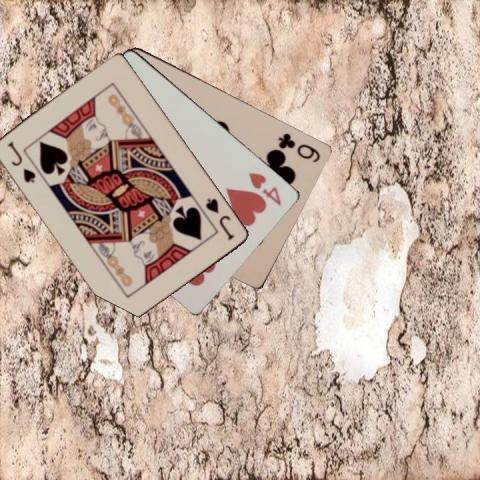4h: (246, 169, 283, 207)
6c: (275, 130, 322, 164)
Js: (202, 195, 236, 242), (5, 138, 37, 184)
